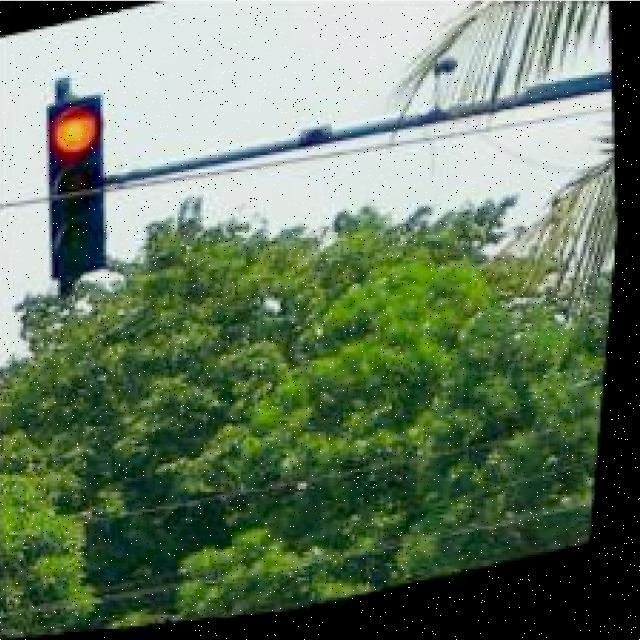Lampu Merah: (34, 91, 122, 282)
